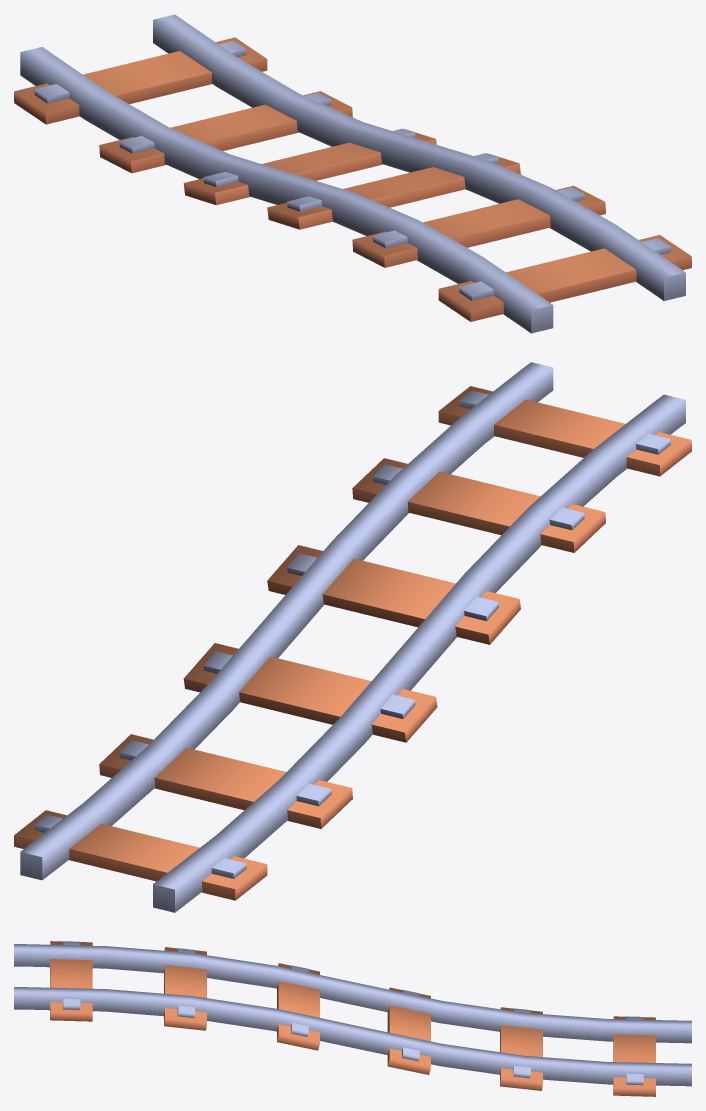
Rendered from railroad-straight-hill-complete-half.glb.
3 renders of one model, top to bottom at view 1: azimuth 30°, elevation 25°; view 2: azimuth 150°, elevation 25°; view 3: azimuth 270°, elevation 25°, orthographic. The views are drawn at different scales.
Visible parts, largest first — view 1: railroad-straight-hill-complete-half; view 2: railroad-straight-hill-complete-half; view 3: railroad-straight-hill-complete-half.
Part boxes in pixels (x1,y1,x2,y2): railroad-straight-hill-complete-half: [14, 14, 691, 333]; railroad-straight-hill-complete-half: [14, 362, 691, 912]; railroad-straight-hill-complete-half: [14, 941, 691, 1096].
Bounding box in the file's own units: 1 × 0.6001 × 4.
1 material, 1 textured.
